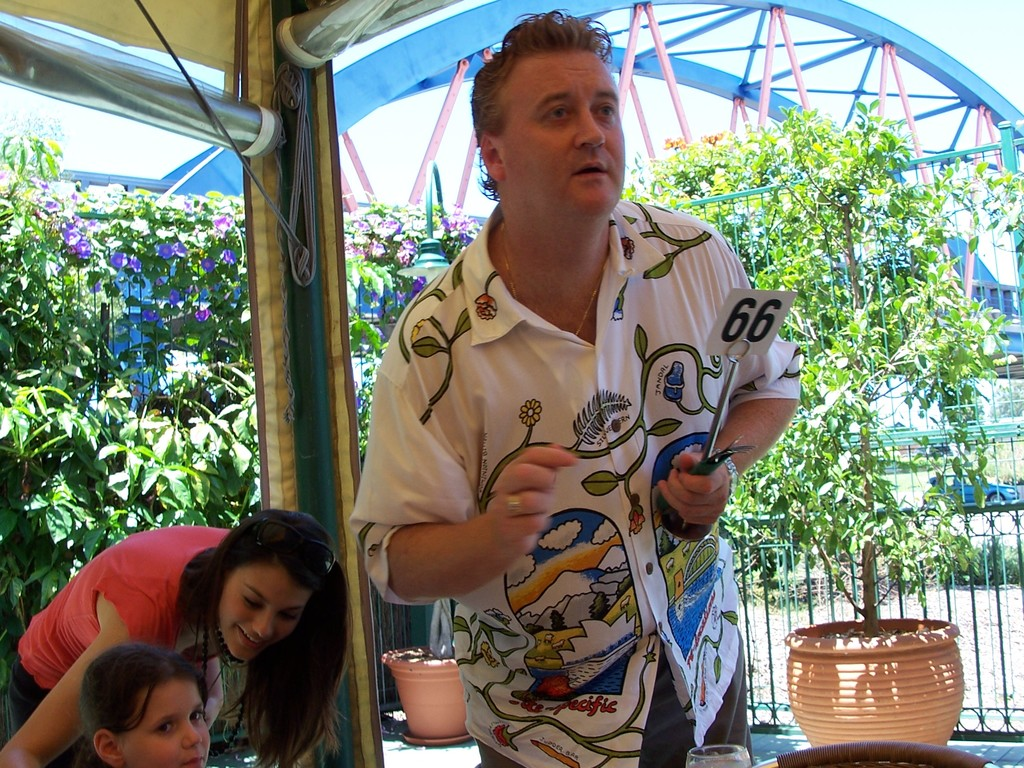Human_hand: (483, 447, 578, 559), (659, 452, 749, 539), (205, 695, 227, 729)
